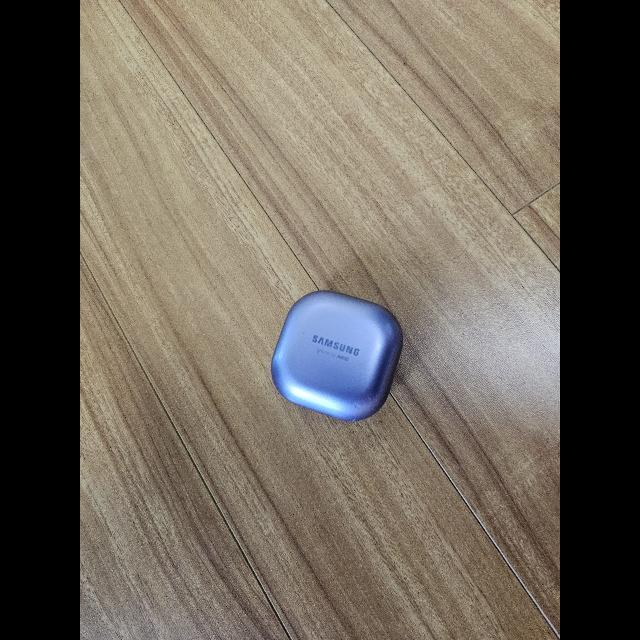buds-pro: (270, 288, 406, 424)
